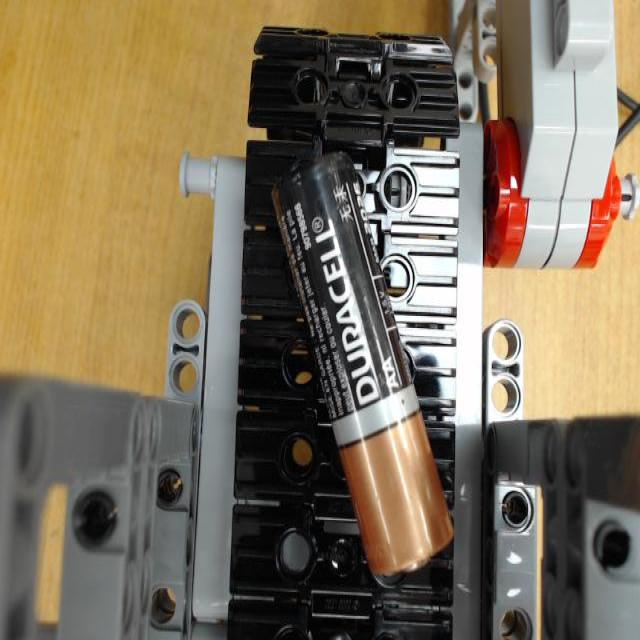AA: (274, 152, 456, 577)
